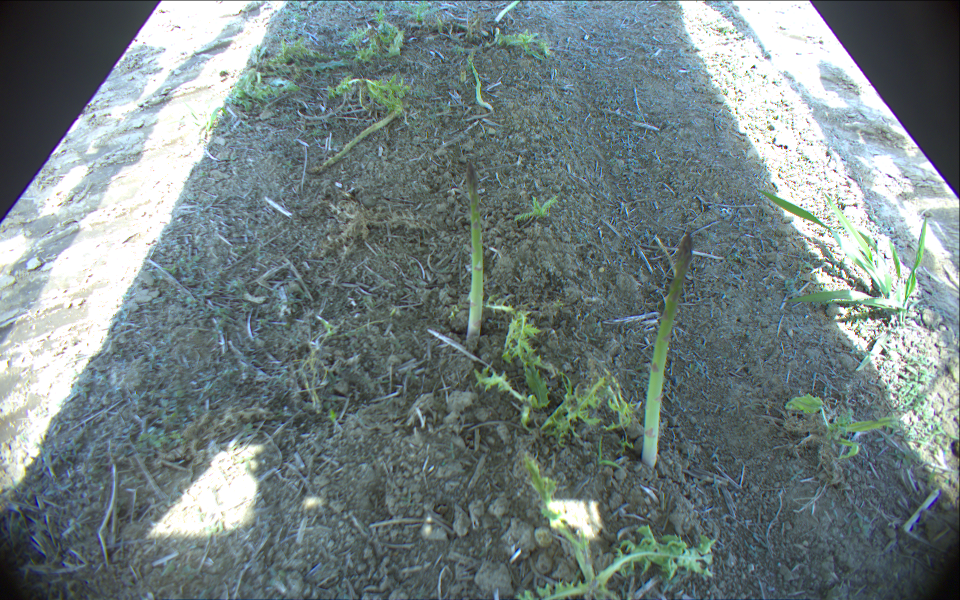aspa: (641, 231, 694, 467), (309, 108, 402, 175), (464, 163, 484, 352), (471, 60, 494, 110), (494, 1, 521, 25)
